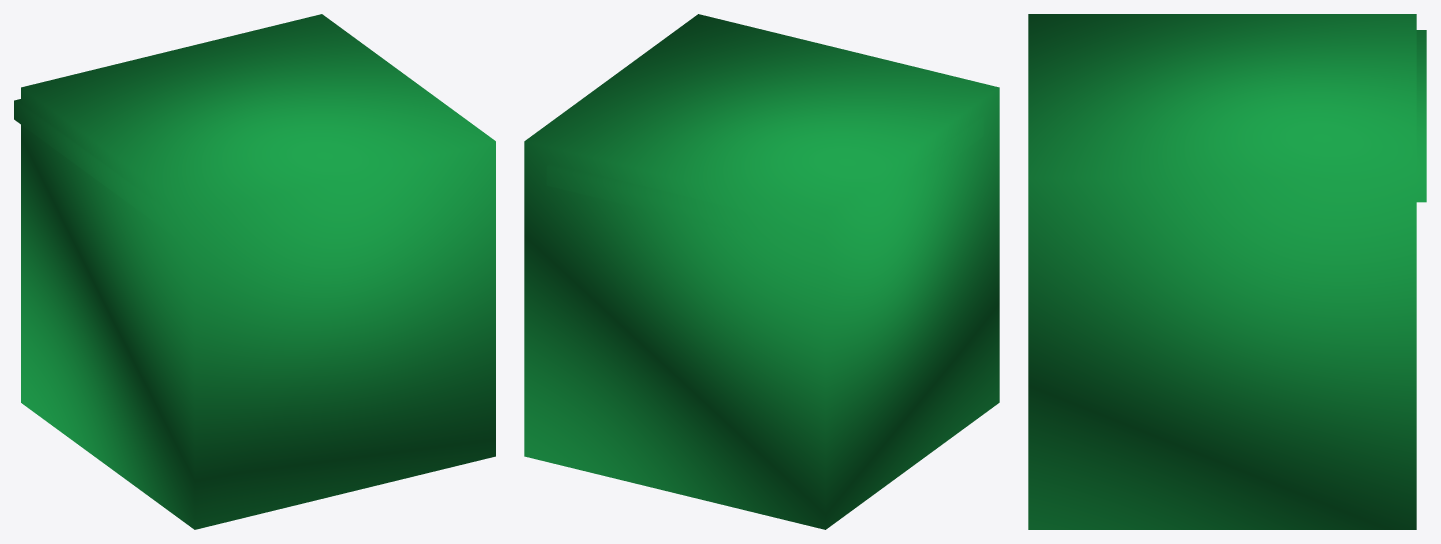
The model's file is ps2_jrpg_rebel_bunker_entrance_frame.obj.
3 views of the same model, side by side, from view 1: azimuth 30°, elevation 25°; view 2: azimuth 150°, elevation 25°; view 3: azimuth 270°, elevation 25° (orthographic). The views are drawn at different scales.
Bounding box in the file's own units: 1.01 × 1 × 1.03.
